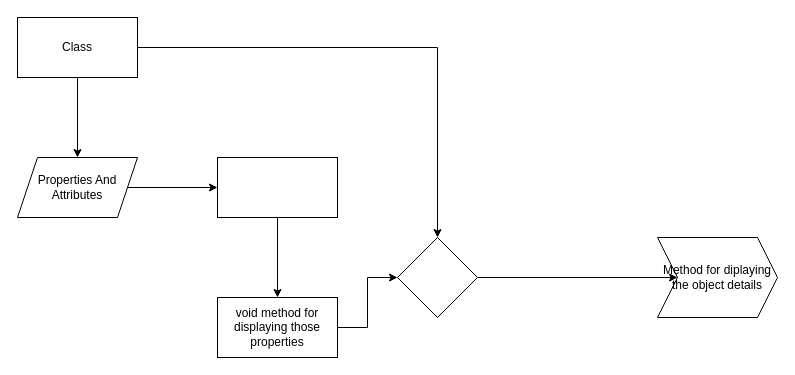
This 795x375 diagram has some shape labels left out. The shapes that lost their labels are listed below. From the top down, each one's centre as x and y in pixels, then its label:
the point at 277,187: Constructor For Initializing The Properties of The Class
the point at 437,277: Object
